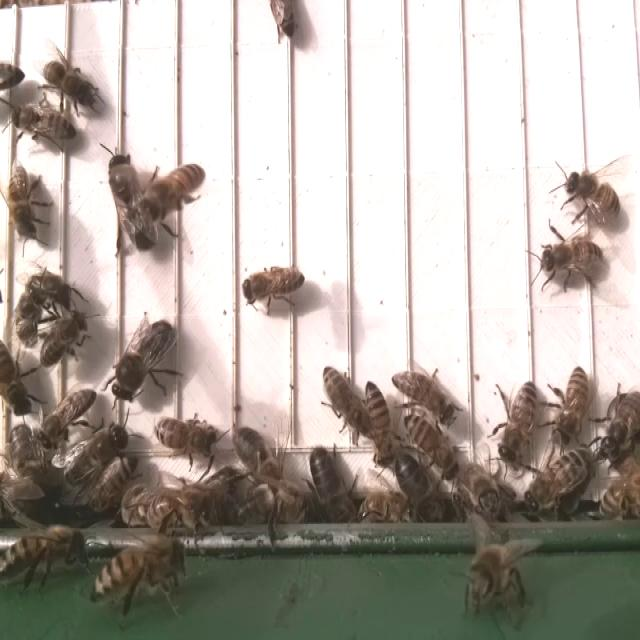Drone: (109, 317, 179, 404), (106, 148, 158, 255), (306, 442, 354, 528), (230, 422, 286, 494)
Worker: (391, 367, 461, 428), (495, 379, 541, 471), (237, 260, 310, 314), (563, 166, 625, 229), (536, 234, 609, 287), (140, 165, 209, 221), (38, 385, 99, 447), (408, 412, 463, 480), (320, 362, 367, 439), (551, 362, 592, 448), (9, 104, 79, 153), (5, 161, 45, 245), (41, 55, 100, 111), (362, 381, 398, 472), (37, 315, 92, 372), (153, 414, 220, 459)
